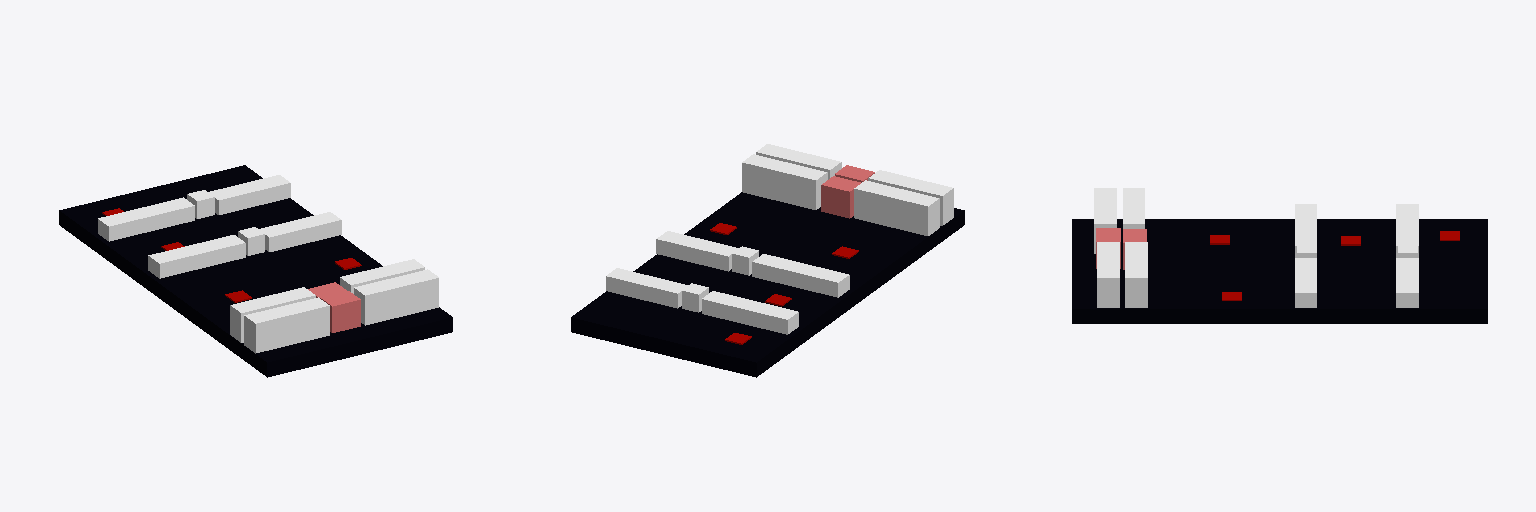
The model's file is unityexport.obj.
3 views of the same model, side by side, from view 1: azimuth 30°, elevation 25°; view 2: azimuth 150°, elevation 25°; view 3: azimuth 270°, elevation 25° (orthographic).
Parts seen in each view (by area): view 1: Floor, FourthRight, FourthLeft, SecondRight, FirstRight, SecondLeft, FirstLeft, ThirdRight, Connected Door 2-2, ThirdLeft, Door 1-2, Door 2-2; view 2: Floor, ThirdRight, ThirdLeft, SecondRight, FirstRight, SecondLeft, FirstLeft, FourthRight, Connected Door 1-2, FourthLeft, Door 1-2, Door 2-2; view 3: Floor, FourthLeft, ThirdLeft, FirstLeft, SecondLeft, FirstRight, FourthRight, SecondRight, ThirdRight.
Part boxes in pixels (x1,y1,x2,y2): Floor: (59,165,452,377); FourthRight: (244,297,329,353); FourthLeft: (354,269,438,325); SecondRight: (148,235,245,278); FirstRight: (98,197,194,241); SecondLeft: (259,212,341,251); FirstLeft: (208,175,290,214); ThirdRight: (230,287,315,342); Connected Door 2-2: (320,291,360,332); ThirdLeft: (340,259,424,293); Door 1-2: (187,190,214,218); Door 2-2: (238,227,264,255); Floor: (571,192,964,377); ThirdRight: (854,180,939,235); ThirdLeft: (742,154,827,209); SecondRight: (752,254,849,297); FirstRight: (702,291,798,334); SecondLeft: (656,231,738,271); FirstLeft: (606,268,688,308); FourthRight: (868,170,953,225); Connected Door 1-2: (821,176,860,218); FourthLeft: (756,144,841,179); Door 1-2: (682,283,708,312); Door 2-2: (732,246,758,275); Floor: (1072,219,1487,323); FourthLeft: (1097,242,1119,307); ThirdLeft: (1125,242,1147,307); FirstLeft: (1396,258,1418,307); SecondLeft: (1295,258,1316,307); FirstRight: (1396,204,1418,257); FourthRight: (1094,188,1116,253); SecondRight: (1295,204,1316,257); ThirdRight: (1123,188,1144,228).
Size of the model in its own units: 6.52 by 1.53 by 12.61.